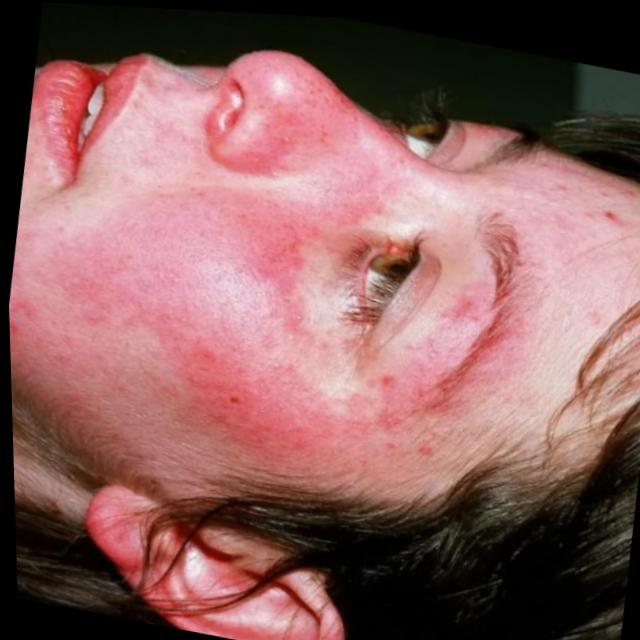Rosacea: (147, 39, 376, 430), (374, 235, 546, 455)
